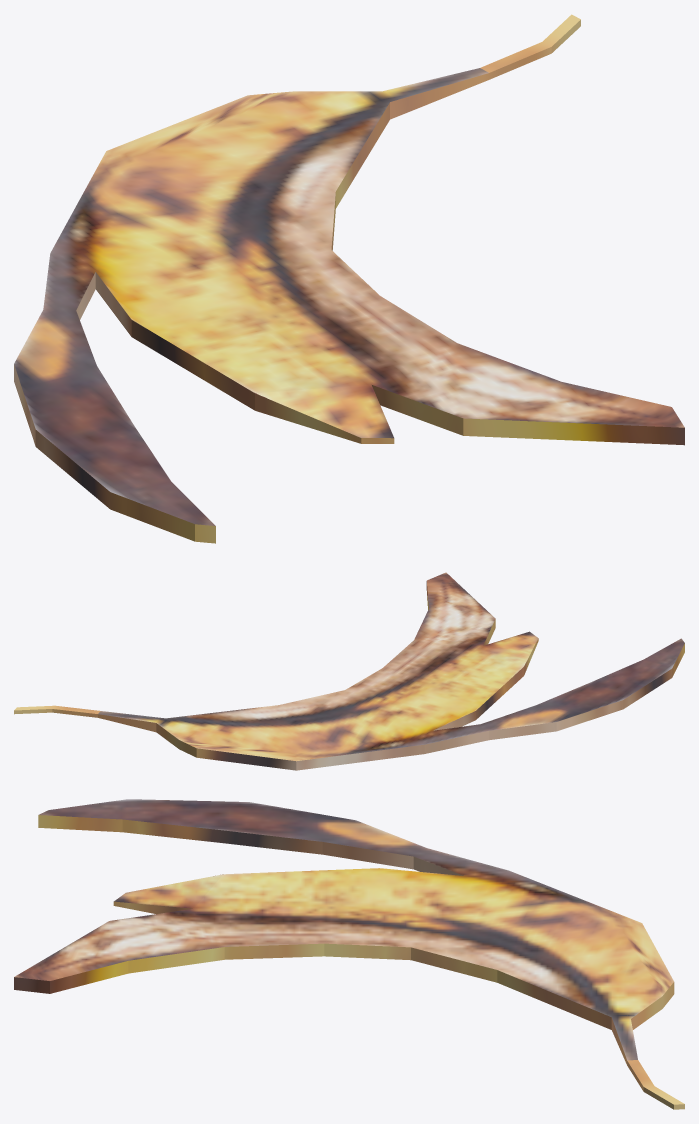
Rendered from banana_peel.FBX.
3 renders of one model, top to bottom at view 1: azimuth 30°, elevation 25°; view 2: azimuth 150°, elevation 25°; view 3: azimuth 270°, elevation 25°, orthographic. The views are drawn at different scales.
Visible parts, largest first — view 1: banana_peel; view 2: banana_peel; view 3: banana_peel.
Boxes of the visible parts, x1,y1,x2,y2 form: banana_peel: [14, 14, 684, 543]; banana_peel: [14, 572, 684, 770]; banana_peel: [14, 799, 684, 1109].
Bounding box in the file's own units: 21.51 × 0.4259 × 20.22.
